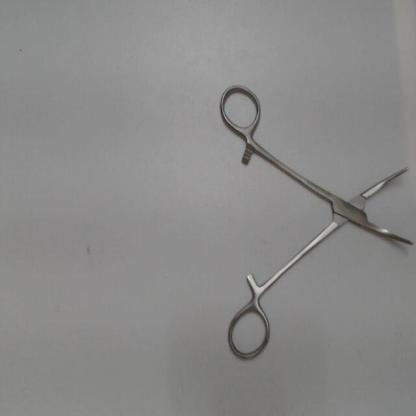Crile Artery Forceps: (213, 76, 414, 363)
